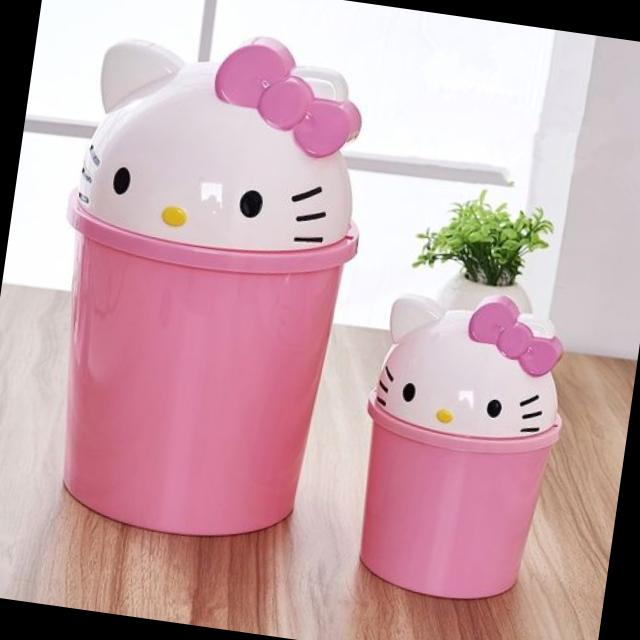dustbin: (21, 9, 391, 560), (338, 278, 582, 615)
